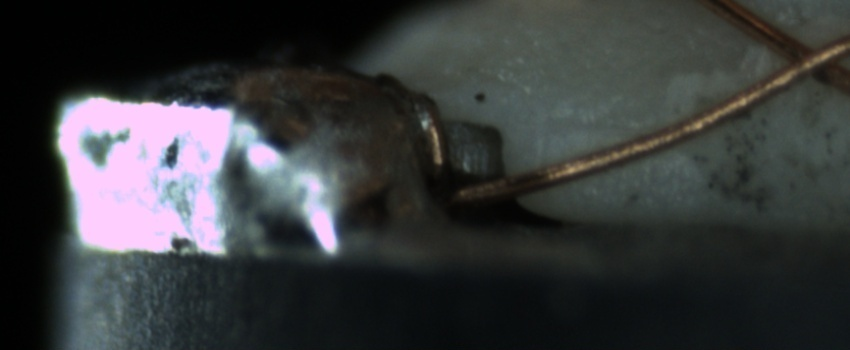CL: (759, 23, 847, 94)
DL: (536, 100, 651, 153)
TE: (406, 89, 449, 191)
